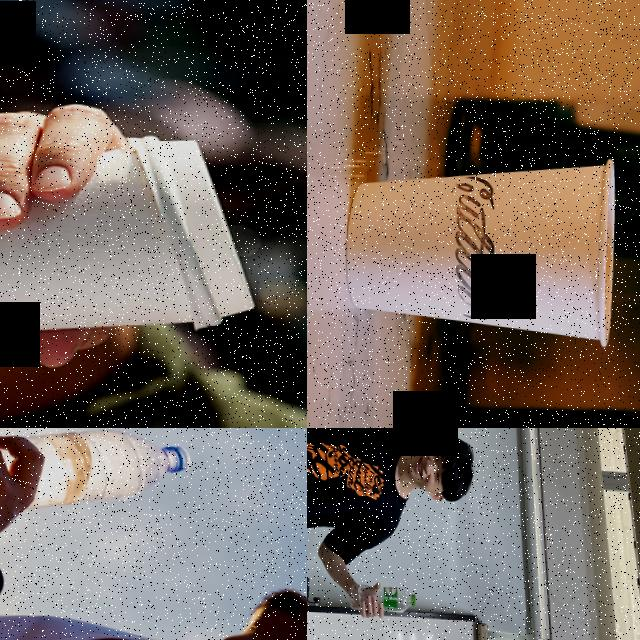bottle: (0, 428, 192, 544), (347, 583, 416, 615)
cup: (0, 122, 259, 354), (336, 148, 619, 354)
